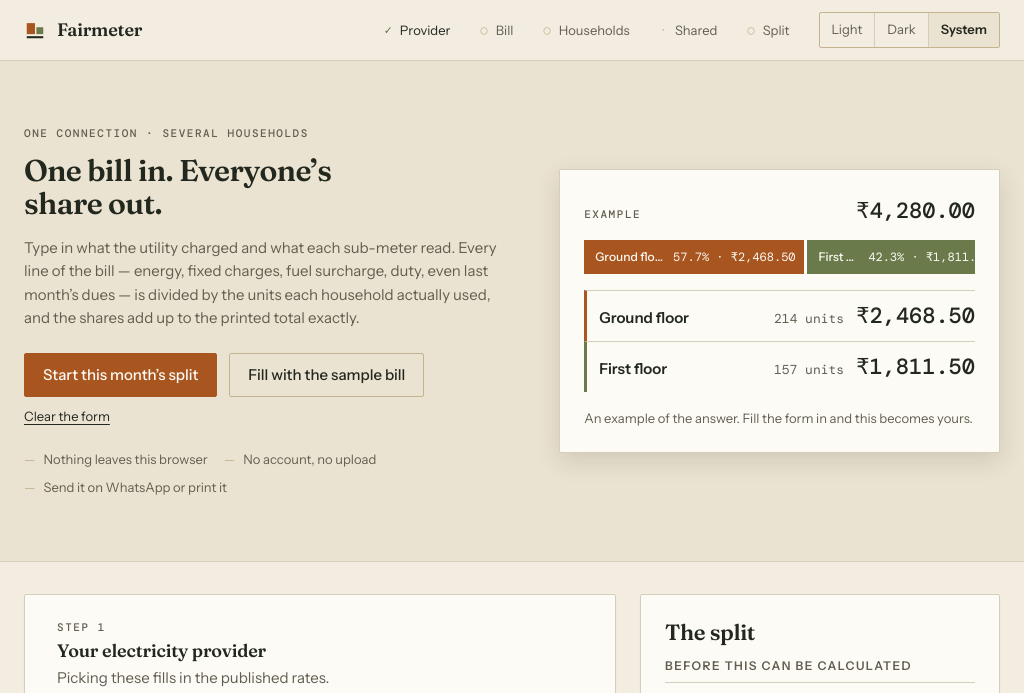
it: App renders and works in a browser environment › computes the real bill end to end when the sample is loaded
The width and height of the screenshot is (1024, 693).
What coordinates should you click on to do the following:
click the button "Fill with the sample bill"
I would click on:
 (327, 375)
Its box is [229,353,424,397].
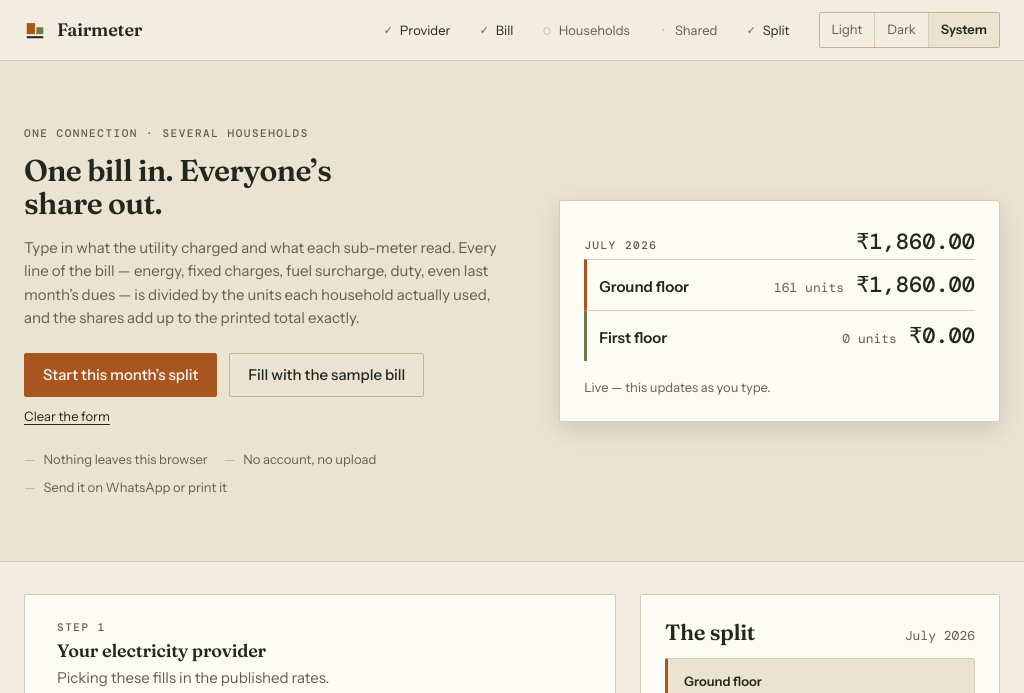
Result: the text "1,860.00" is shown at [869,227,975,256]
